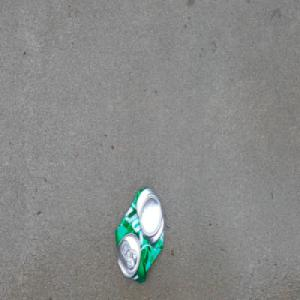SodaCan: (113, 184, 166, 285)
